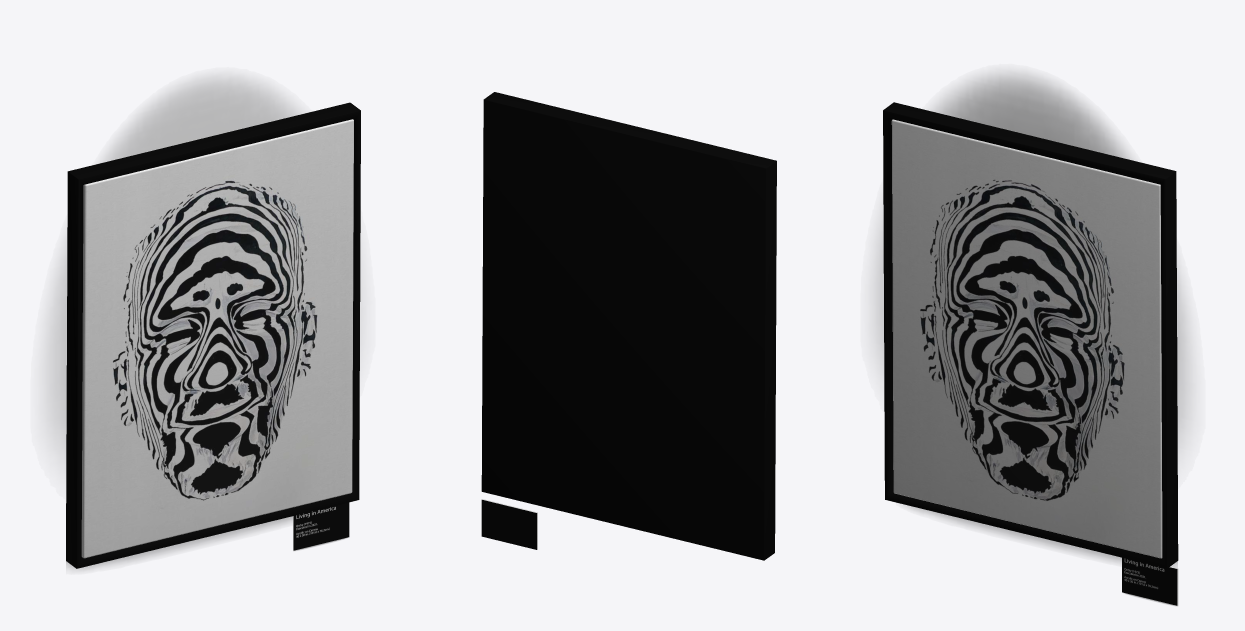
File: living-in-america.glb
The picture shows the model from 3 angles, left to right: view 1: azimuth 30°, elevation 25°; view 2: azimuth 150°, elevation 25°; view 3: azimuth 330°, elevation 25°; orthographic projection.
Visible parts, largest first — view 1: Canvas, frame, ligth_, Box001, Plane001; view 2: frame, Box001; view 3: Canvas, frame, ligth_, Box001, Plane001.
Part boxes in pixels (x1=…): Canvas: x1=81, y1=119, x2=353, y2=558; frame: x1=66, y1=102, x2=360, y2=568; ligth_: x1=46, y1=76, x2=300, y2=461; Box001: x1=293, y1=502, x2=349, y2=550; Plane001: x1=66, y1=516, x2=292, y2=568; frame: x1=481, y1=92, x2=776, y2=560; Box001: x1=481, y1=499, x2=537, y2=549; Canvas: x1=891, y1=119, x2=1162, y2=558; frame: x1=883, y1=102, x2=1178, y2=568; ligth_: x1=876, y1=73, x2=1189, y2=442; Box001: x1=1122, y1=557, x2=1178, y2=605; Plane001: x1=910, y1=506, x2=1177, y2=566.
Bounding box in the file's own units: 10.94 × 13.89 × 0.6293.
2 materials, 1 textured.
